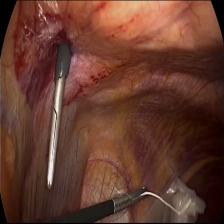Grasper: (45, 84, 65, 194), (121, 184, 150, 212)
Specimen Bag: (148, 178, 207, 224)
